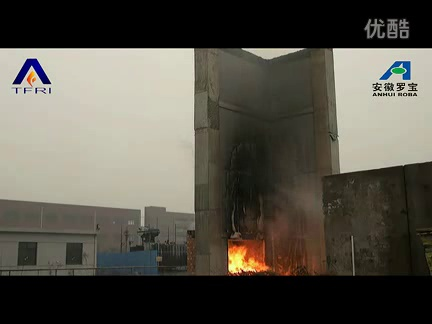fire: (229, 240, 268, 277)
